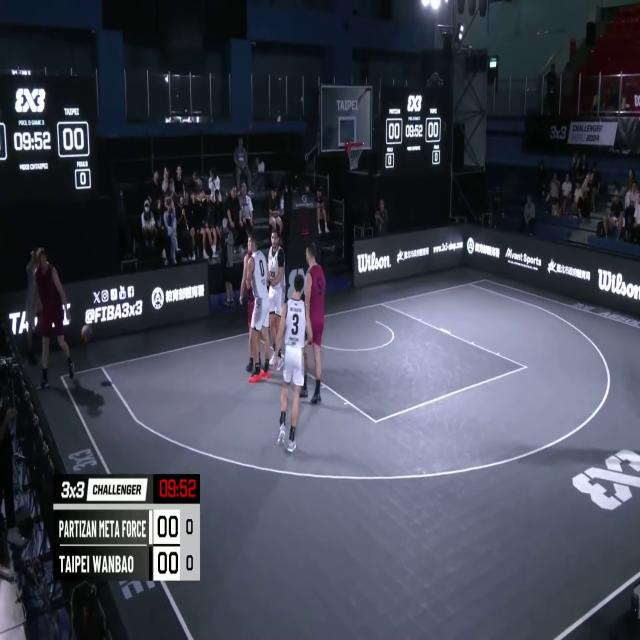ball: (81, 321, 93, 345)
hoop: (346, 140, 362, 170)
player: (274, 277, 311, 451), (34, 241, 76, 394), (296, 243, 326, 404), (242, 234, 272, 382), (241, 230, 266, 372), (264, 227, 286, 376)
